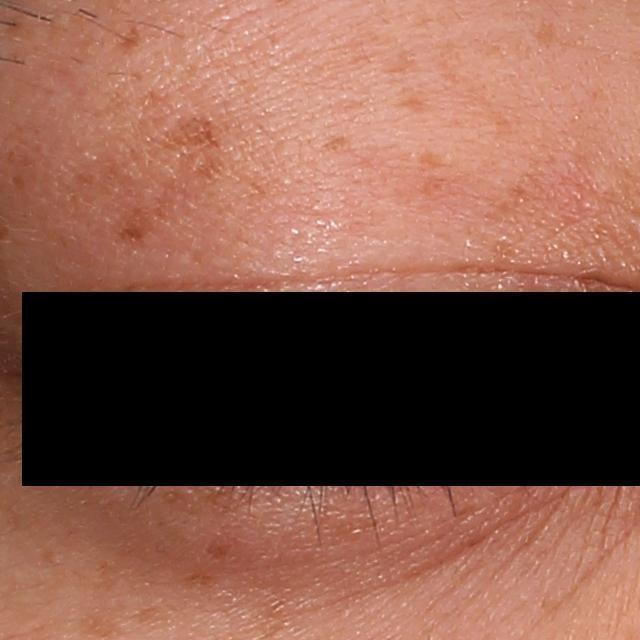melasma: (148, 115, 222, 155), (115, 200, 175, 242), (85, 602, 129, 639), (395, 86, 442, 114), (316, 133, 357, 156), (113, 22, 142, 54), (413, 149, 456, 170), (530, 22, 560, 49), (7, 172, 25, 193)
